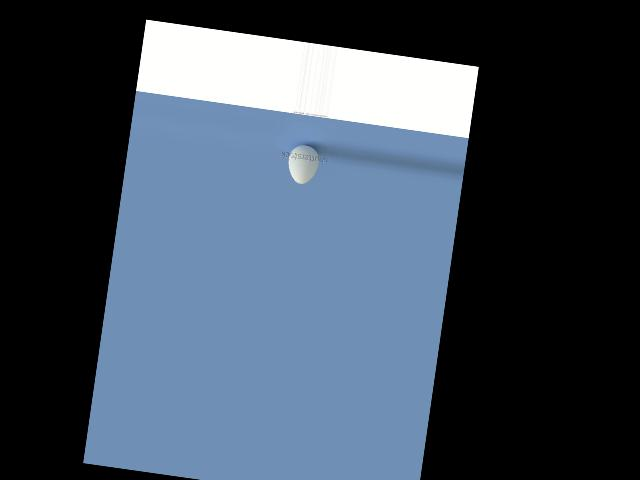egg: (285, 142, 320, 185)
